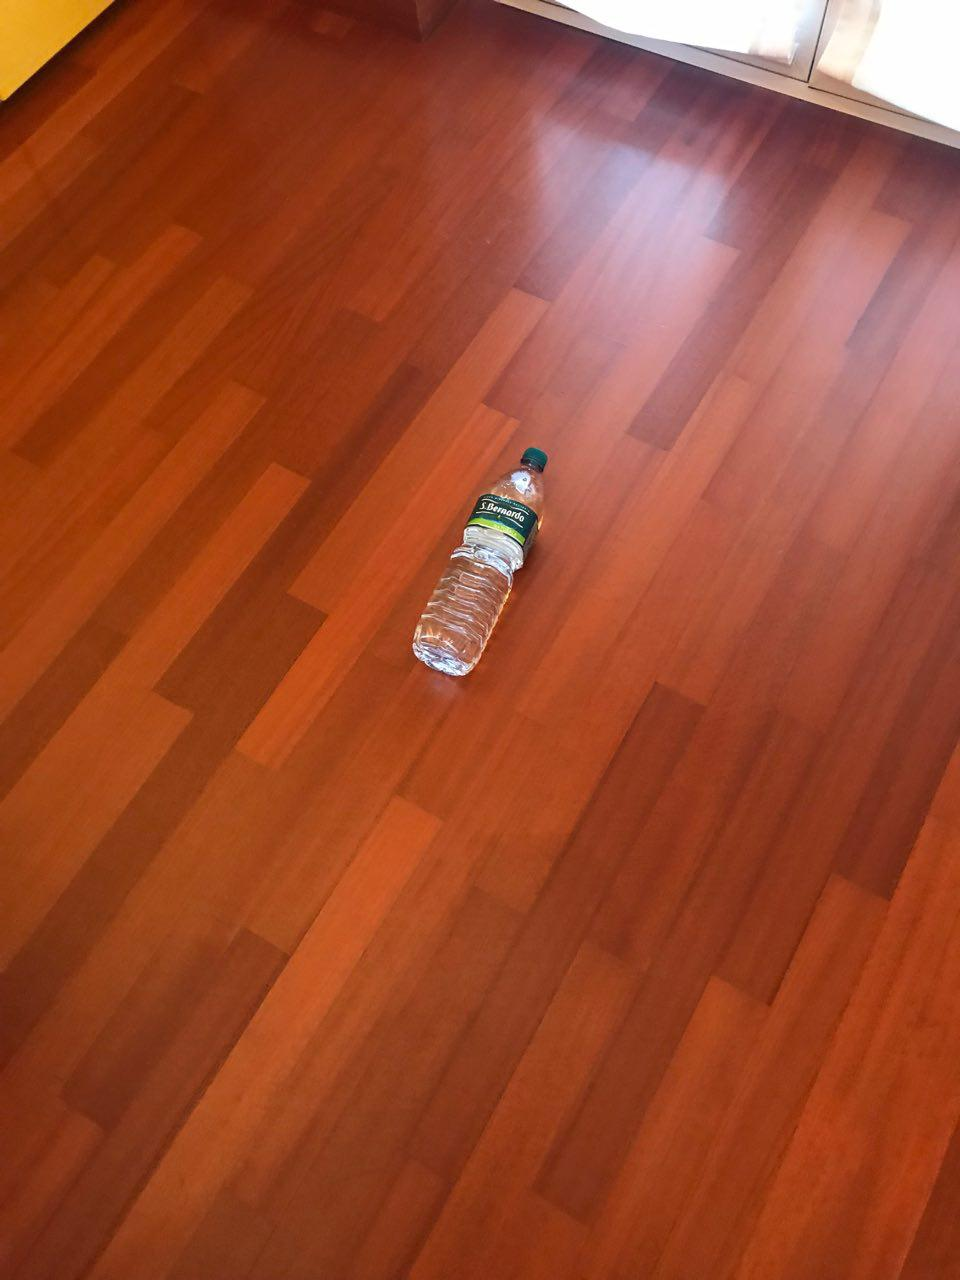san_bernardo: (410, 447, 549, 678)
